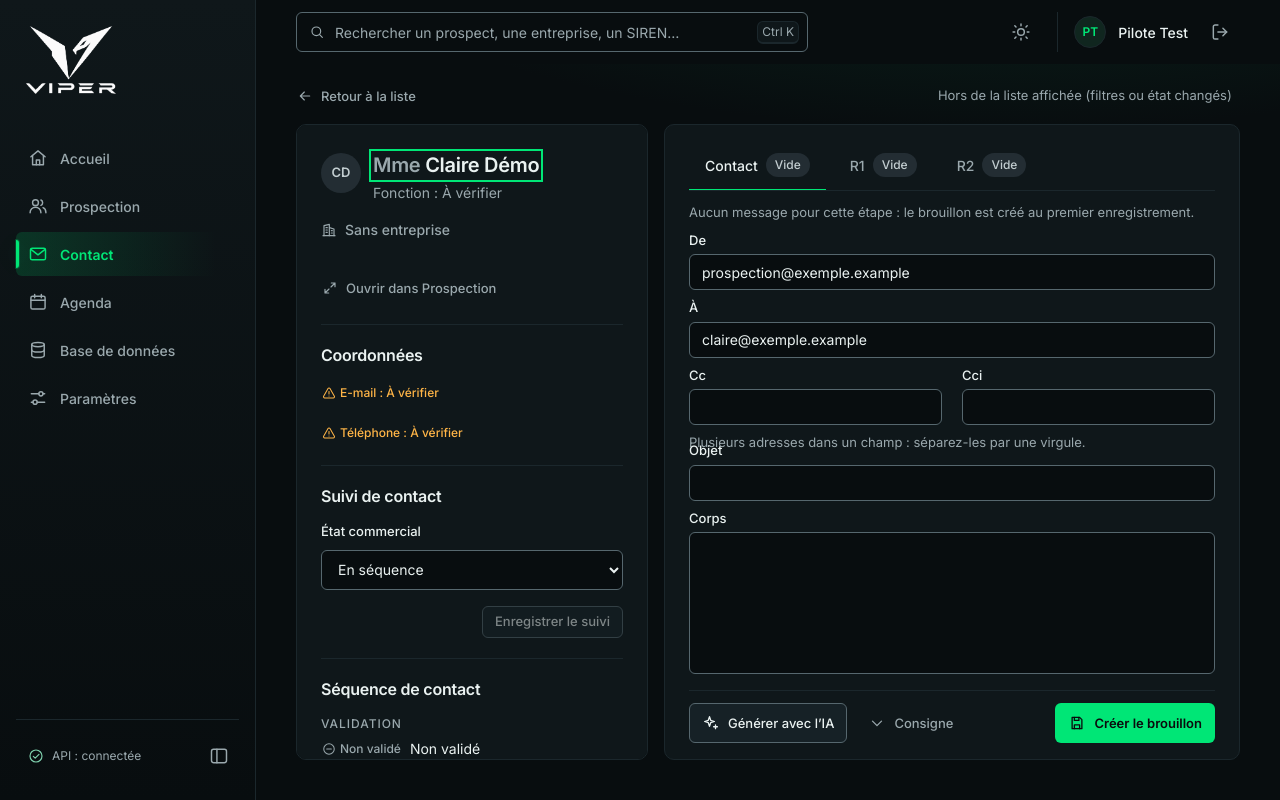
AI drafting in the mail editor › keeps each step’s « consigne » across tab switches and says why the other tabs wait
This screenshot has width=1280, height=800.
Click the button "Consigne".
click(911, 723)  # box [855,703,966,743]
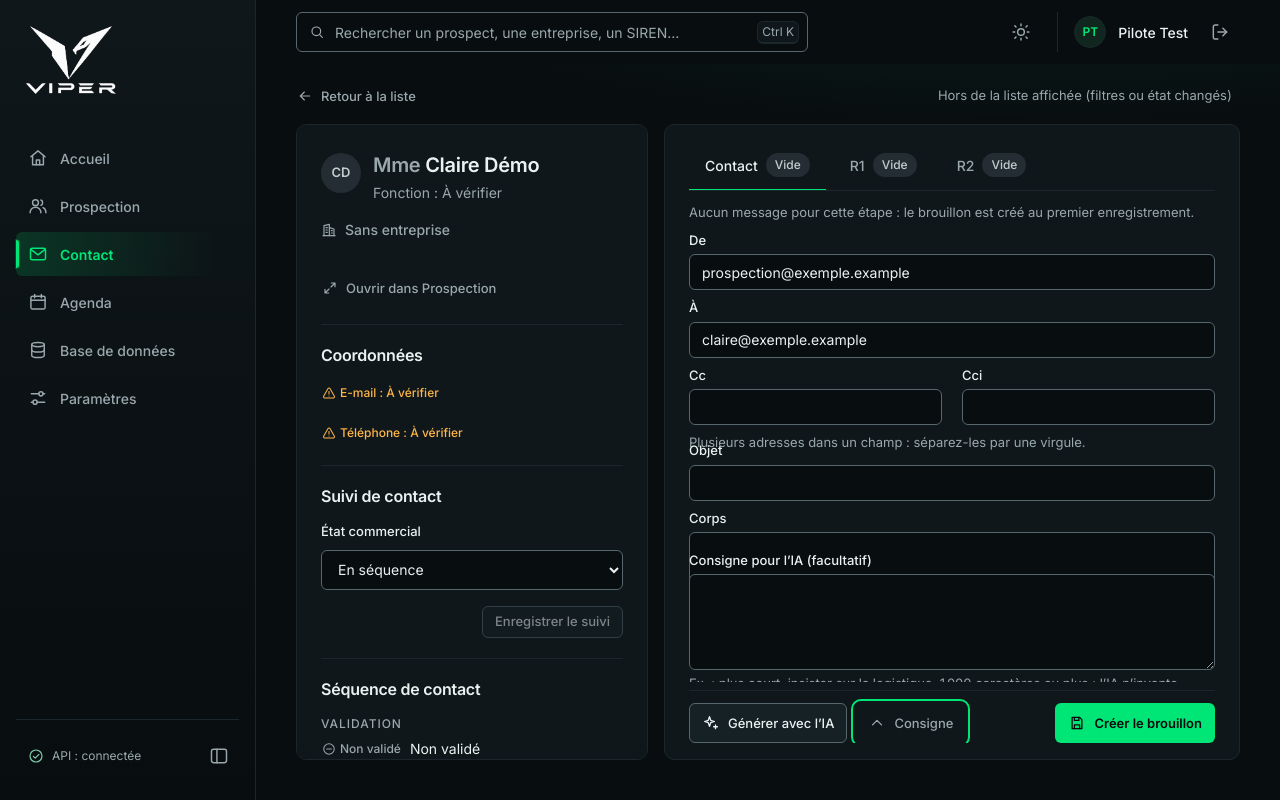
Type "Plus court" into the text box labelled "Consigne pour l’IA (facultatif)".
click(952, 622); type("Plus court")  # box [689,574,1215,670]
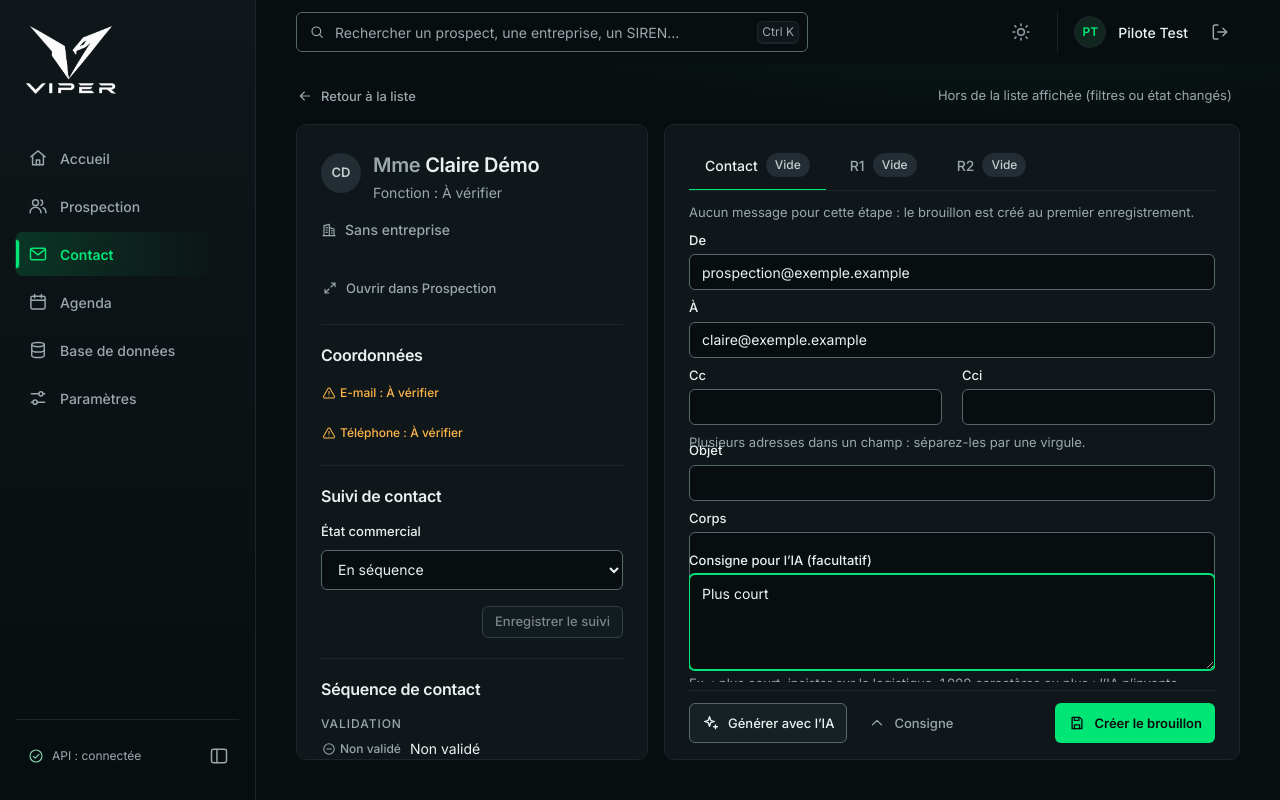
Click the tab "R1 Vide".
click(883, 166)  # box [834,141,933,191]
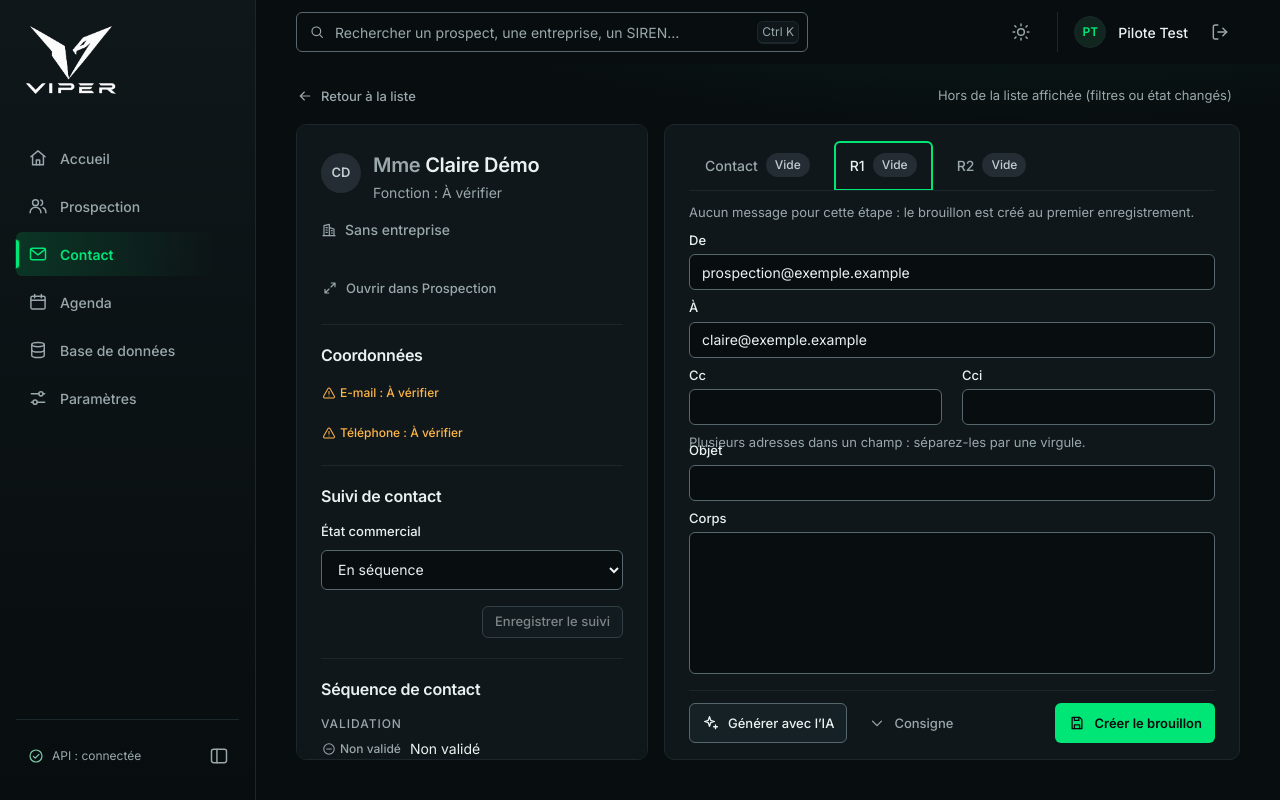
Check: the label "Consigne pour l’IA (facultatif)" is gone
Click the tab "Contact Vide".
click(757, 166)  # box [689,141,826,191]
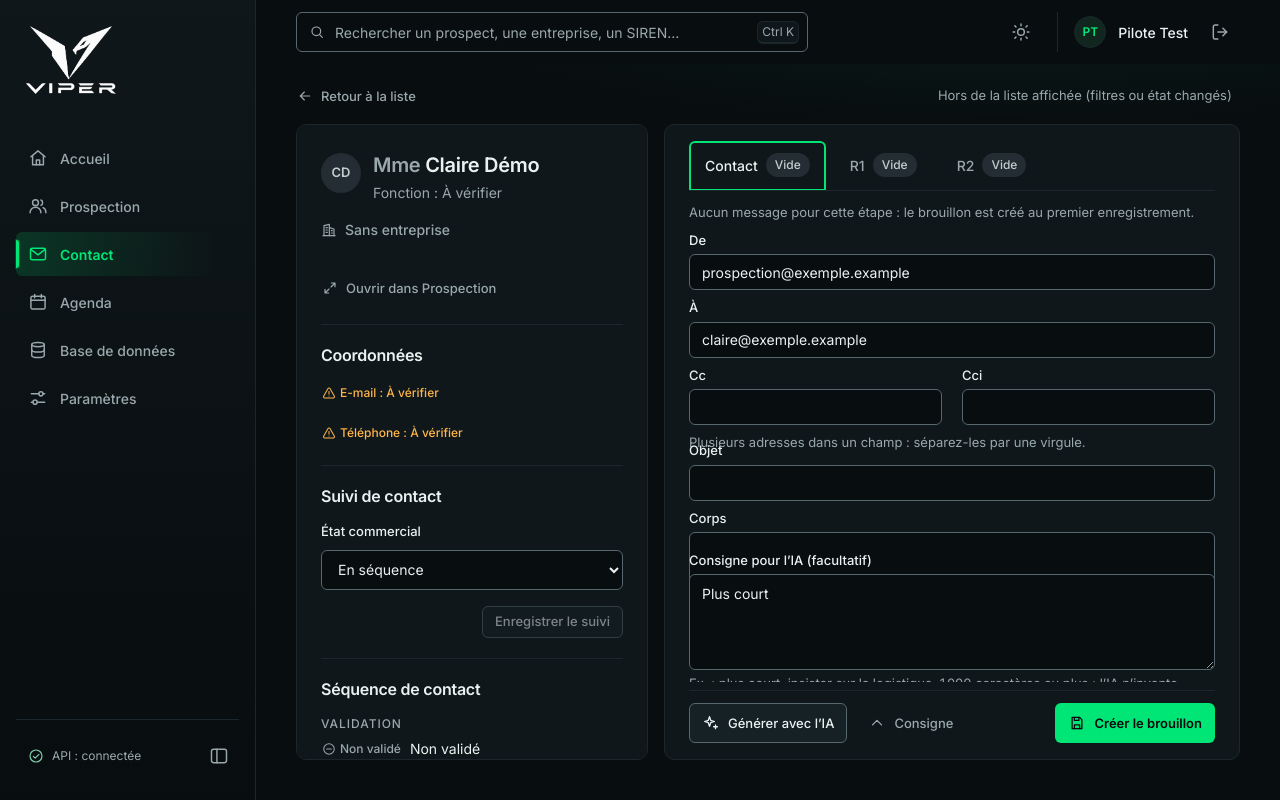
Check: the text box labelled "Consigne pour l’IA (facultatif)" holds "Plus court", box [689,574,1215,670]
Click the button "Générer avec l’IA".
click(768, 723)  # box [689,703,847,743]
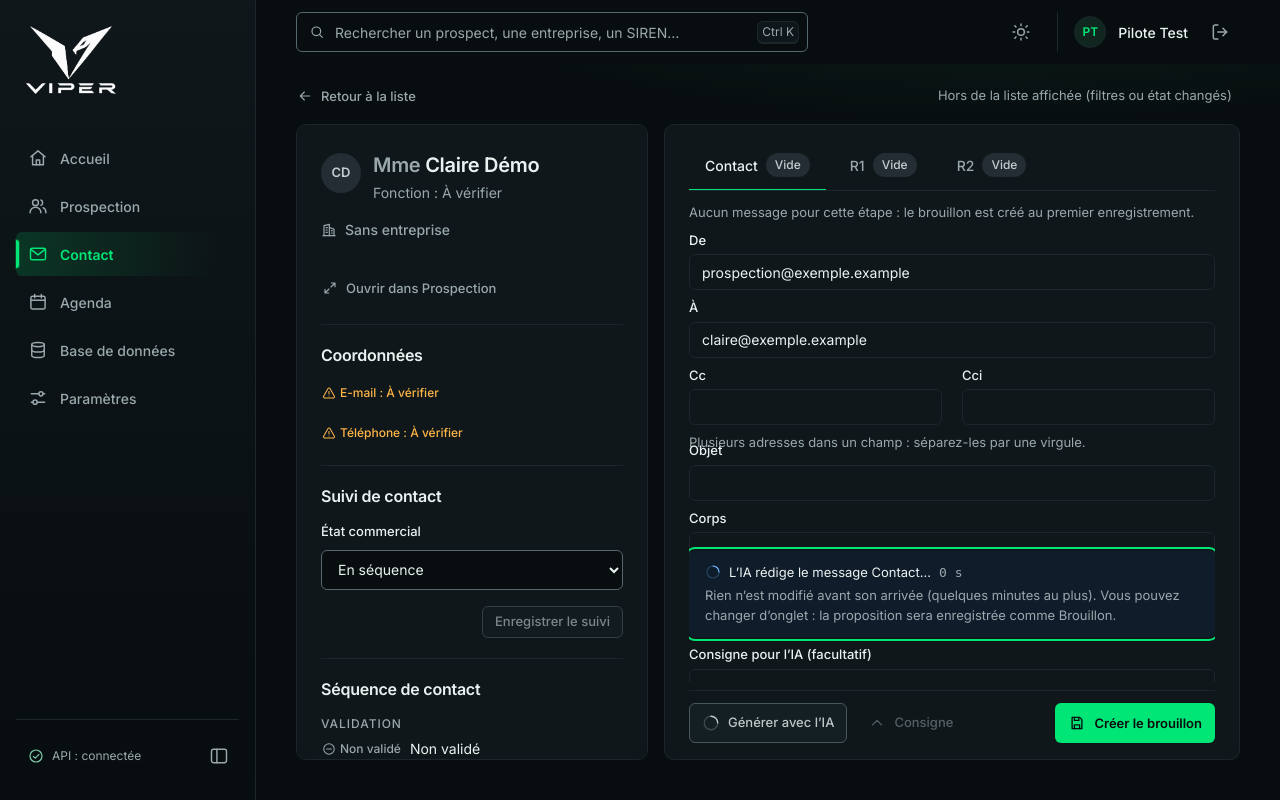
Click the tab "R1 Vide".
click(883, 166)  # box [834,141,933,191]
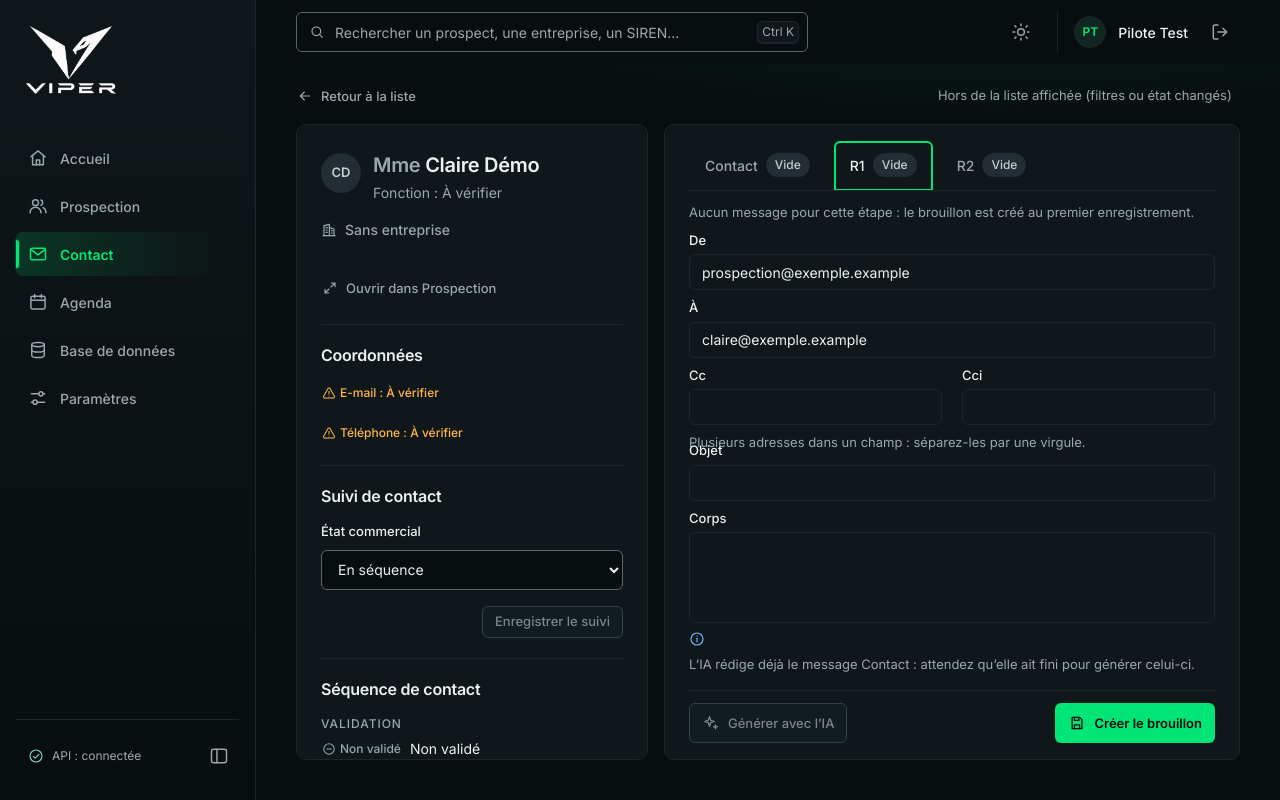
Check: the button "Générer avec l’IA" is disabled, box [689,703,847,743]
Check: the text "L’IA rédige déjà le message Contact : attendez qu’elle ait fini pour générer celui-ci." is shown, box [689,656,1195,672]
